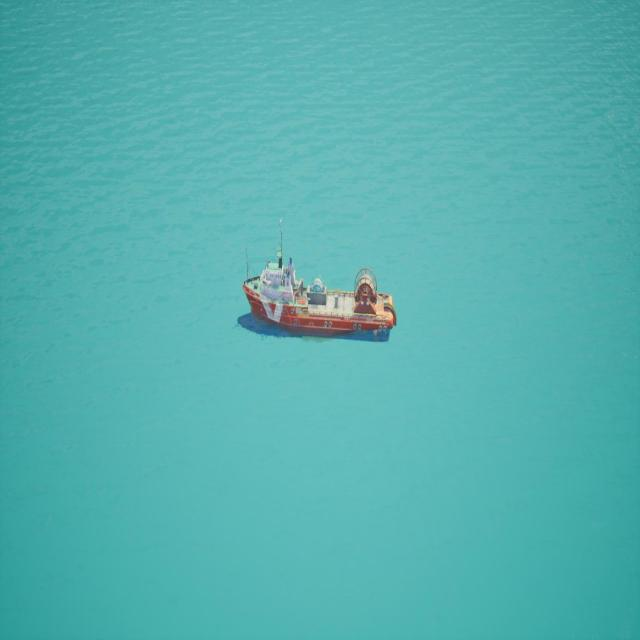tug boat: (242, 217, 405, 343)
